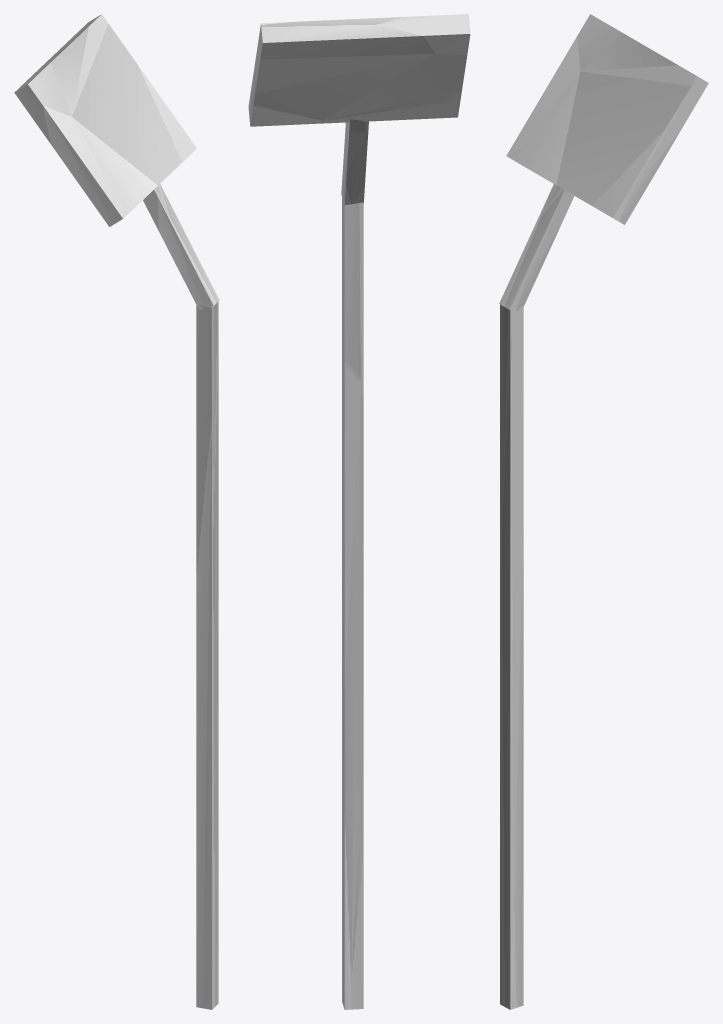
The model's file is Faro1.obj.
3 views of the same model, side by side, from view 1: azimuth 30°, elevation 25°; view 2: azimuth 150°, elevation 25°; view 3: azimuth 270°, elevation 25° (orthographic). The views are drawn at different scales.
Visible parts, largest first — view 1: pCube21, pCube20, pasted__pCube20 group134; view 2: pCube21, pCube20, pasted__pCube20 group134; view 3: pCube21, pCube20, pasted__pCube20 group134.
Boxes of the visible parts, left/top/right/bottom form: pCube21: left=14, top=14, right=196, bottom=226; pCube20: left=196, top=301, right=218, bottom=1009; pasted__pCube20 group134: left=143, top=184, right=219, bottom=310; pCube21: left=248, top=14, right=470, bottom=126; pCube20: left=342, top=198, right=363, bottom=1009; pasted__pCube20 group134: left=341, top=119, right=368, bottom=205; pCube21: left=506, top=14, right=708, bottom=224; pCube20: left=500, top=304, right=523, bottom=1009; pasted__pCube20 group134: left=499, top=184, right=574, bottom=311.
Size of the model in its own units: 2.75 by 12.95 by 2.67.
1 material, 1 textured.
